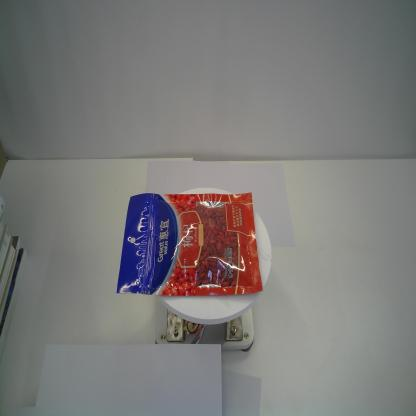Dried Fruit: (114, 192, 264, 295)
